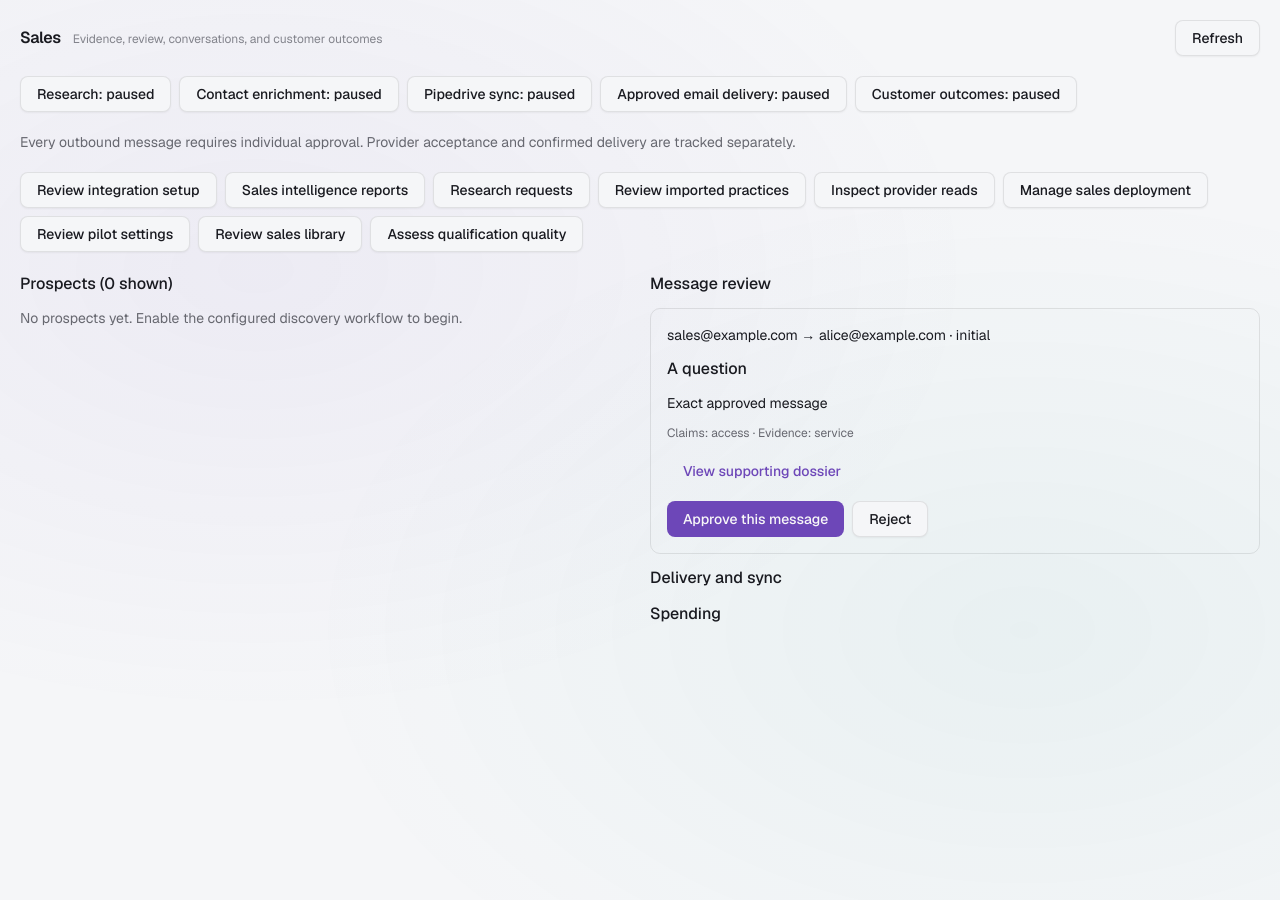
Scenario: opens qualification review without granting prospect promotion
The image size is (1280, 900).
Expected: the text "Exact approved message" is shown, 667,394 -> 828,412
Step 1. Click the button "Assess qualification quality" → {"x": 477, "y": 234}, box 370,216 -> 584,252
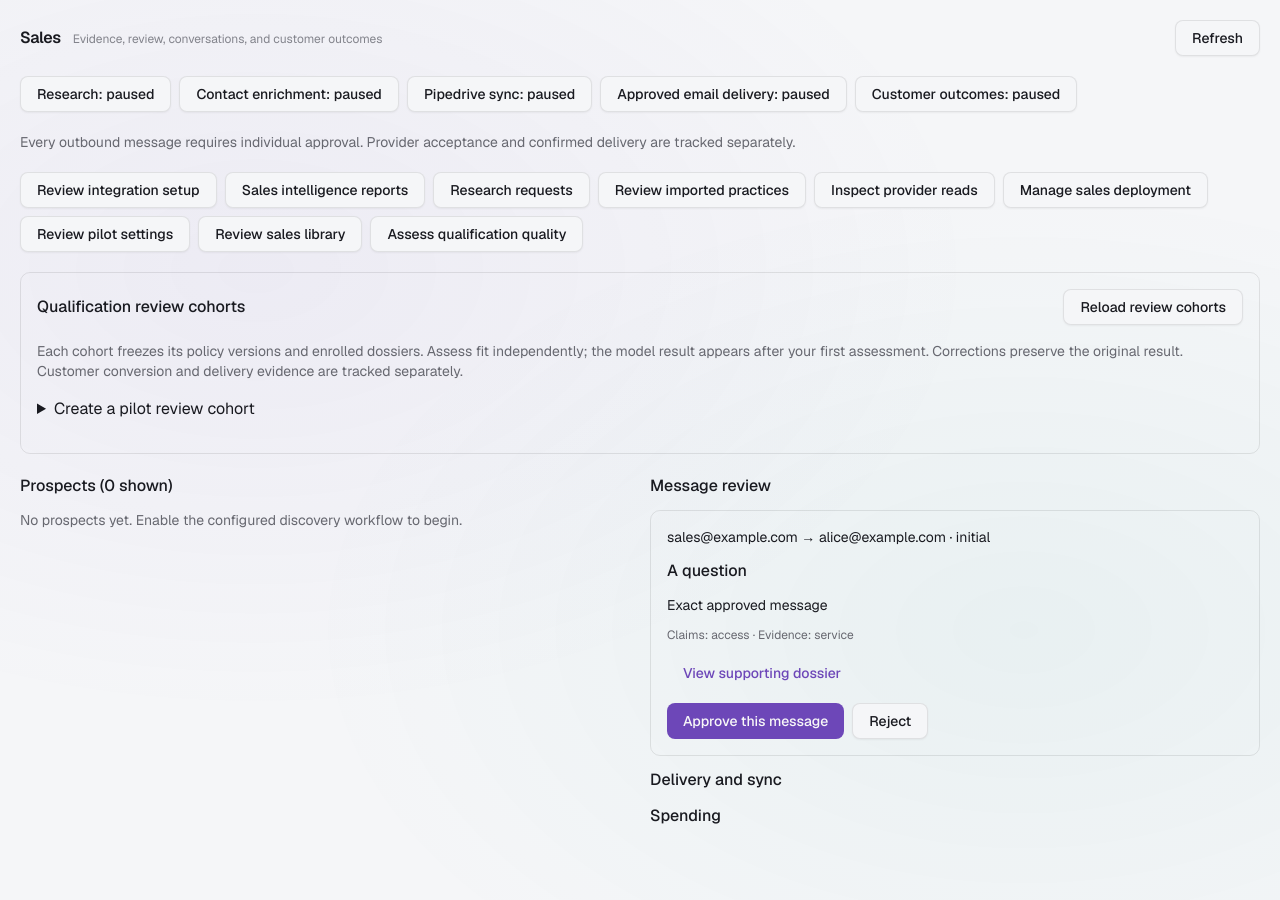
Now the element "Qualification review" is shown, box 20,272 -> 1260,454
